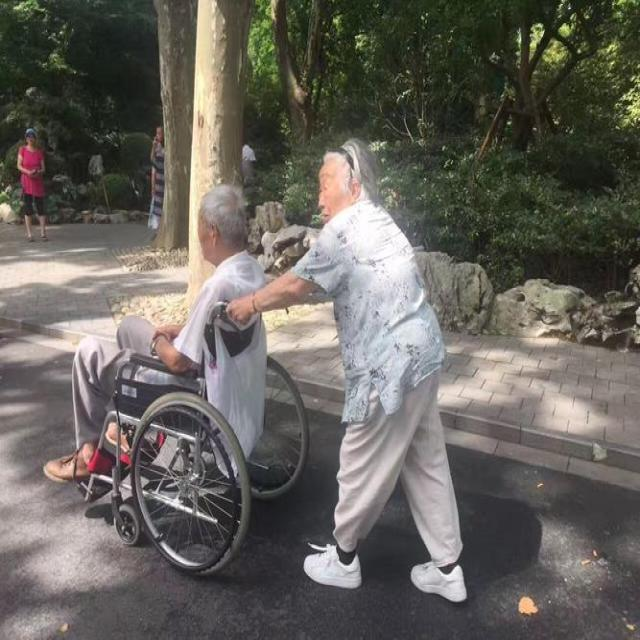wheelchairs: (55, 284, 312, 587)
